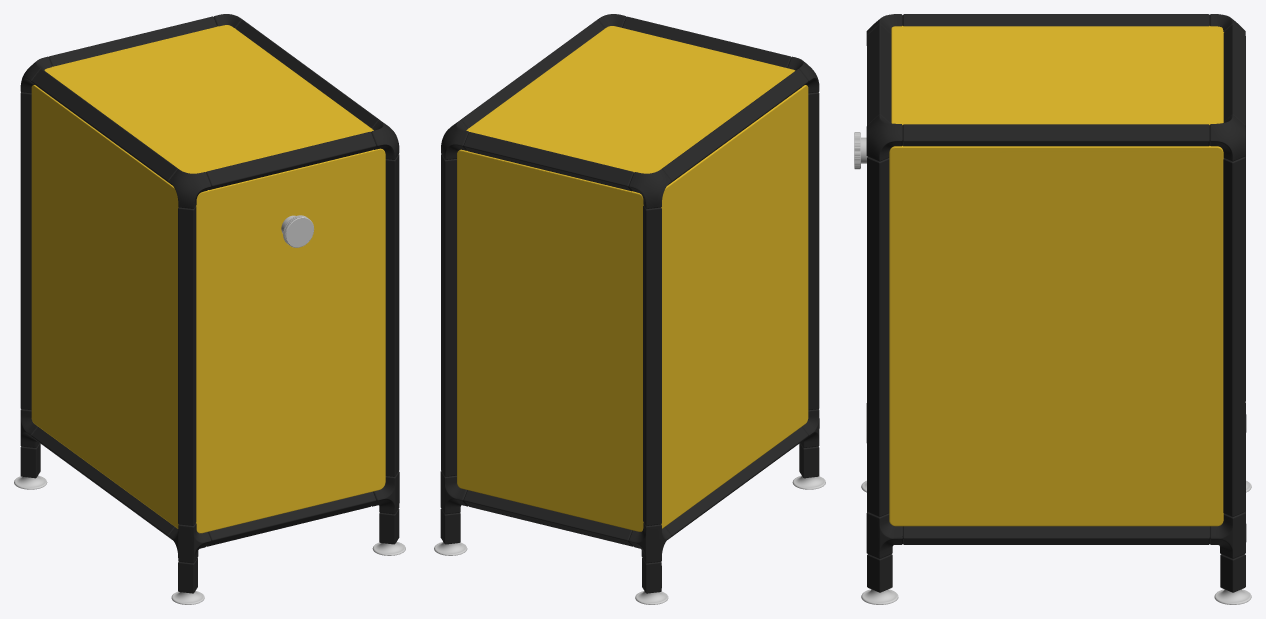
3 views of the same model, side by side, from view 1: azimuth 30°, elevation 25°; view 2: azimuth 150°, elevation 25°; view 3: azimuth 270°, elevation 25° (orthographic). The views are drawn at different scales.
Visible parts, largest first — view 1: 229x329x420; view 2: 229x329x420; view 3: 229x329x420.
Part boxes in pixels (bbox=[...]): 229x329x420: bbox=[14, 14, 405, 604]; 229x329x420: bbox=[434, 14, 825, 604]; 229x329x420: bbox=[854, 14, 1251, 604].
Bounding box in the file's own units: 0.3189 × 0.5593 × 0.4257.
